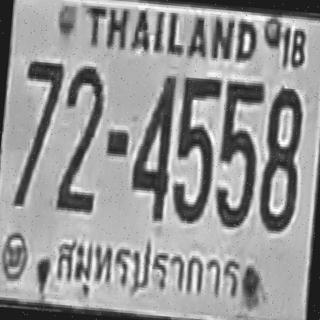N02: (54, 62, 104, 210)
N04: (128, 70, 176, 218)
N05: (169, 72, 221, 223), (212, 77, 264, 228)
N07: (13, 57, 63, 208)
N08: (256, 84, 305, 230)
P57: (49, 228, 248, 306)
